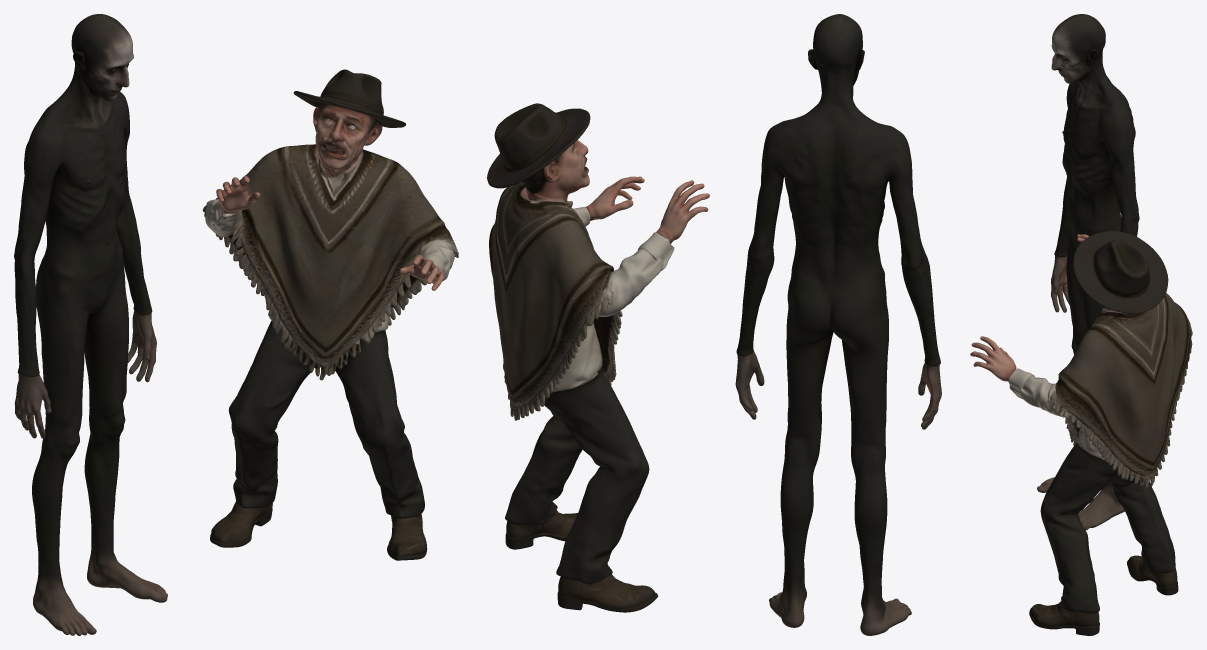
File: 34-el-alto-de-la-parroquia-optimized.glb
3 views of the same model, side by side, from view 1: azimuth 30°, elevation 25°; view 2: azimuth 150°, elevation 25°; view 3: azimuth 270°, elevation 25° (orthographic). The views are drawn at different scales.
Parts seen in each view (by area): view 1: tripo_node_8750d268-22da-4b9d-8109-91057630cd3d; view 2: tripo_node_8750d268-22da-4b9d-8109-91057630cd3d; view 3: tripo_node_8750d268-22da-4b9d-8109-91057630cd3d.
Part boxes in pixels (x1,y1,x2,y2): tripo_node_8750d268-22da-4b9d-8109-91057630cd3d: [14, 14, 458, 635]; tripo_node_8750d268-22da-4b9d-8109-91057630cd3d: [487, 14, 941, 635]; tripo_node_8750d268-22da-4b9d-8109-91057630cd3d: [970, 14, 1192, 635].
Bounding box in the file's own units: 0.774 × 1 × 0.4106.
1 material, 1 textured.
